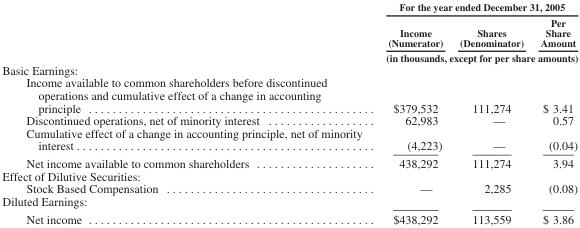table: (1, 1, 577, 225)
table column: (1, 1, 373, 225), (450, 1, 531, 225), (373, 1, 450, 225), (531, 1, 577, 225)
table column header: (1, 1, 577, 63)
table projected row header: (1, 194, 577, 209), (1, 63, 577, 75), (1, 169, 577, 181)
table row: (1, 75, 577, 113), (1, 14, 577, 49), (1, 126, 577, 154), (1, 209, 577, 225), (1, 154, 577, 169), (1, 194, 577, 209), (1, 49, 577, 63), (1, 1, 577, 14), (1, 113, 577, 126), (1, 181, 577, 194), (1, 63, 577, 75), (1, 169, 577, 181)
table spanning cell: (373, 49, 577, 63), (373, 1, 577, 14)
